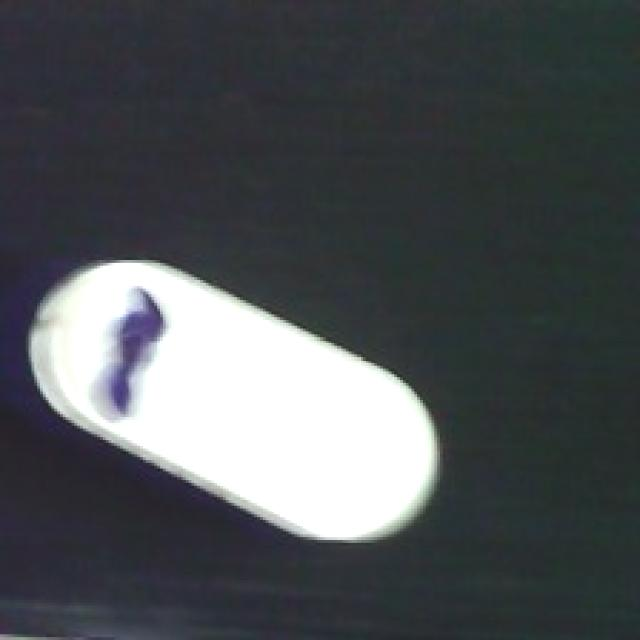defected: (22, 253, 446, 546)
